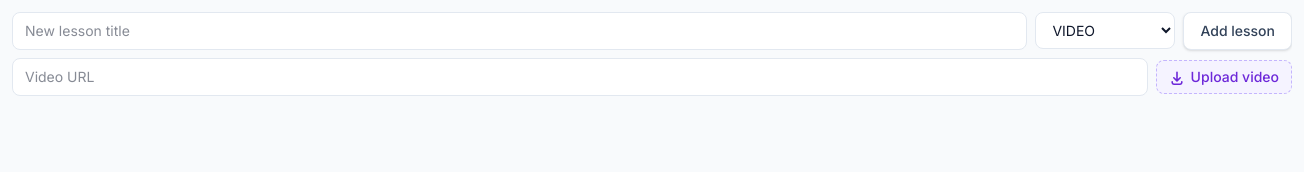
Test: AddLessonForm › shows a validation error and does not submit for an empty title
Click the button "Add lesson": click(1238, 31) x1=1183 y1=12 x2=1292 y2=50
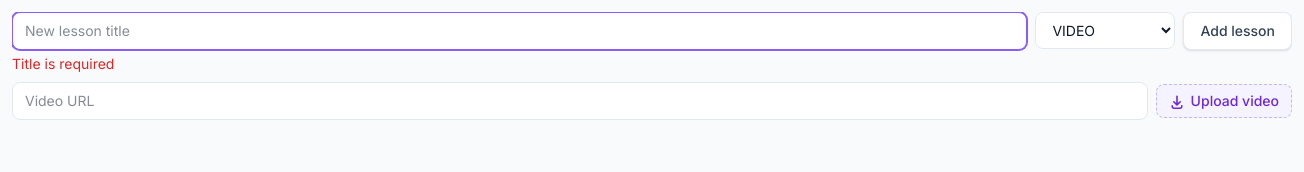
Check: the text "Title is required" is shown, box x1=12 y1=55 x2=114 y2=72
